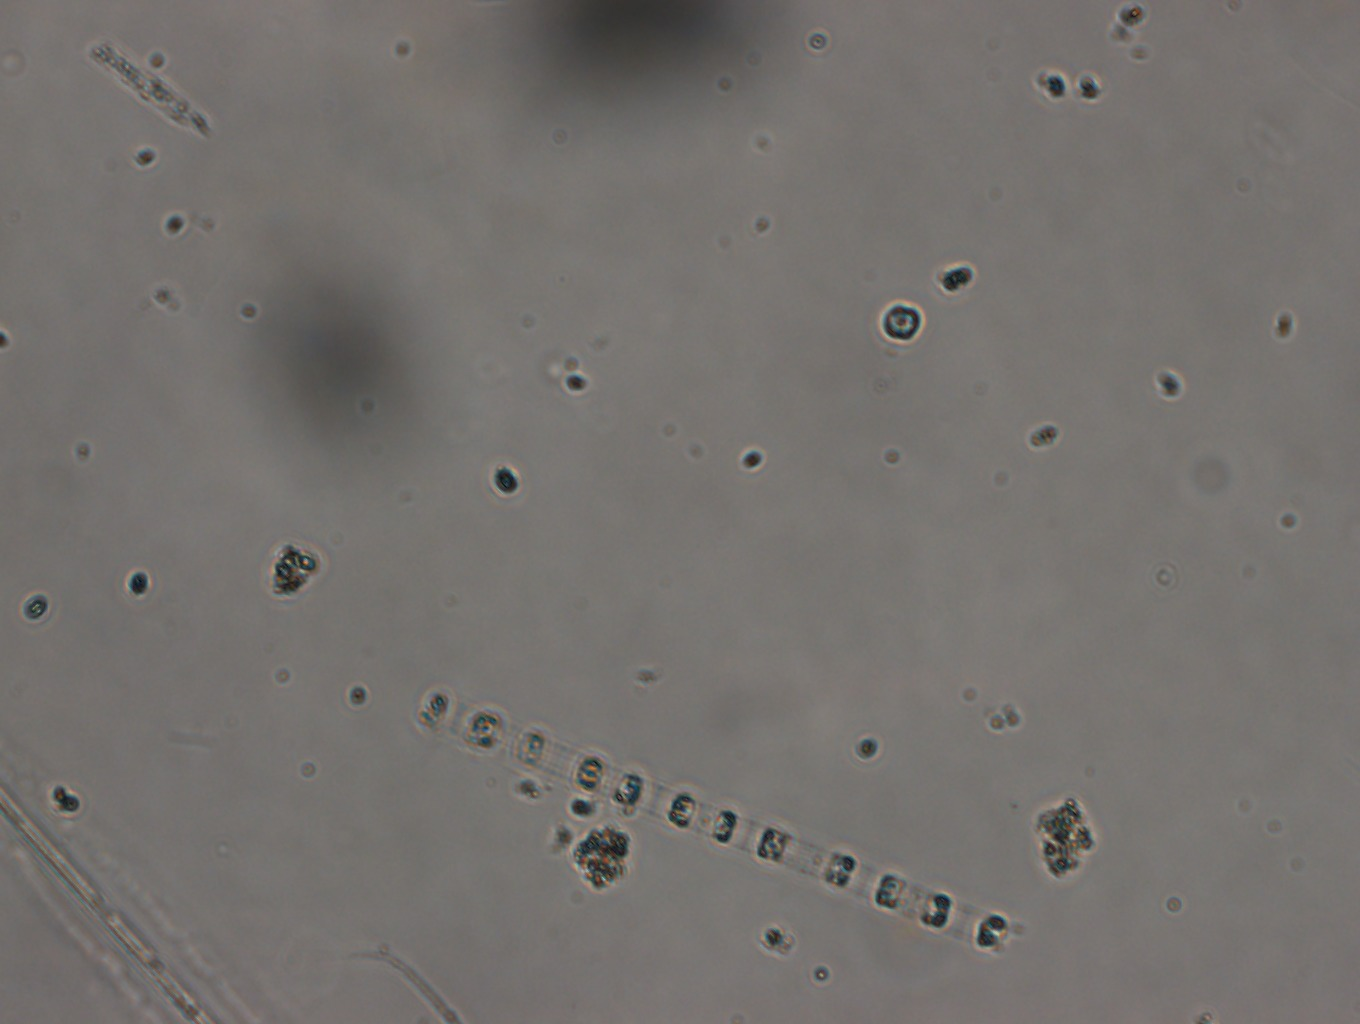skeletonema: (415, 689, 1027, 955)
